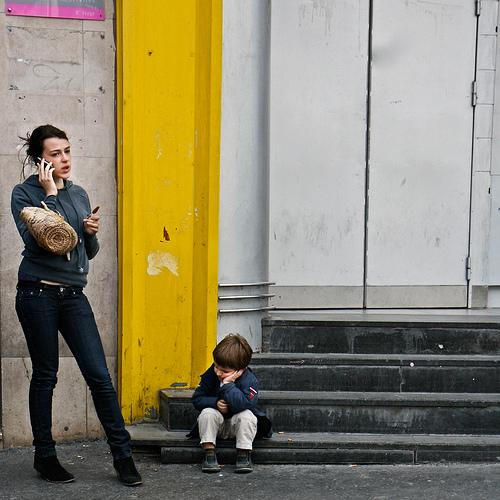person: (10, 126, 147, 490)
